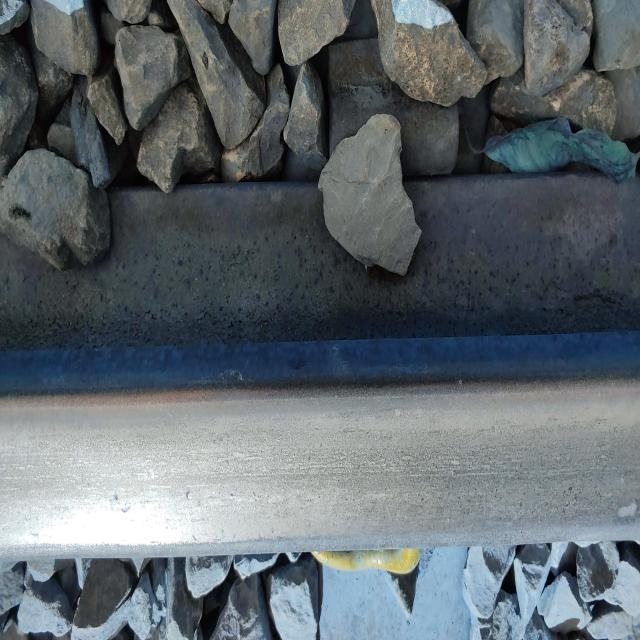Missing Fastener: (301, 0, 480, 226)
